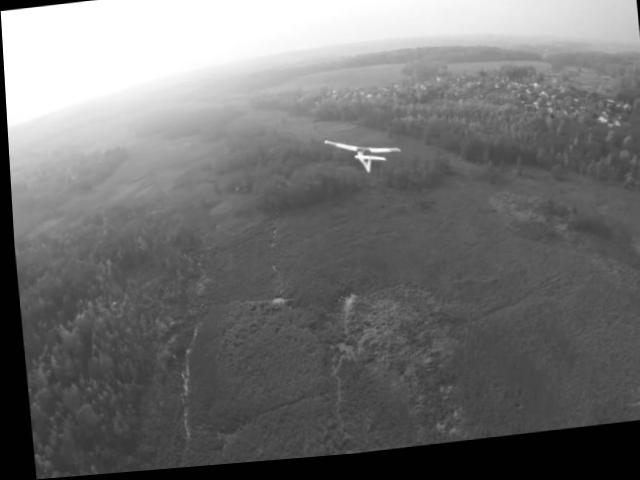hedef: (318, 128, 397, 193)
